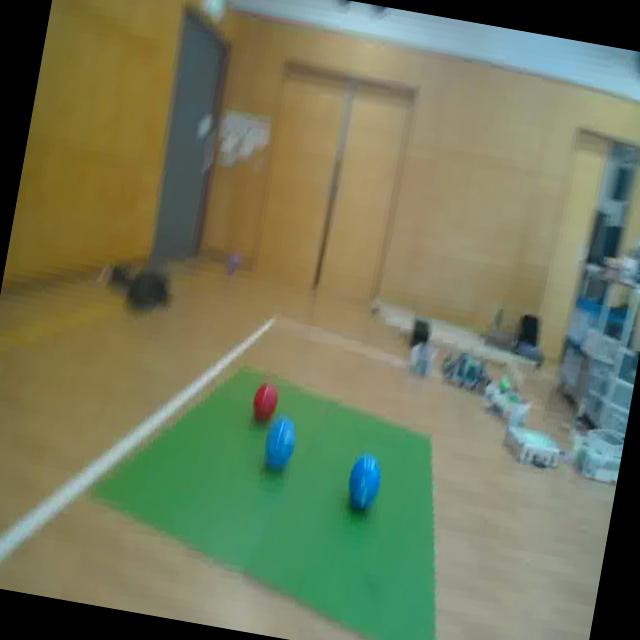blue_ball: (342, 450, 384, 518), (261, 412, 300, 474)
purple_ball: (226, 251, 242, 278)
red_ball: (249, 377, 283, 429)
